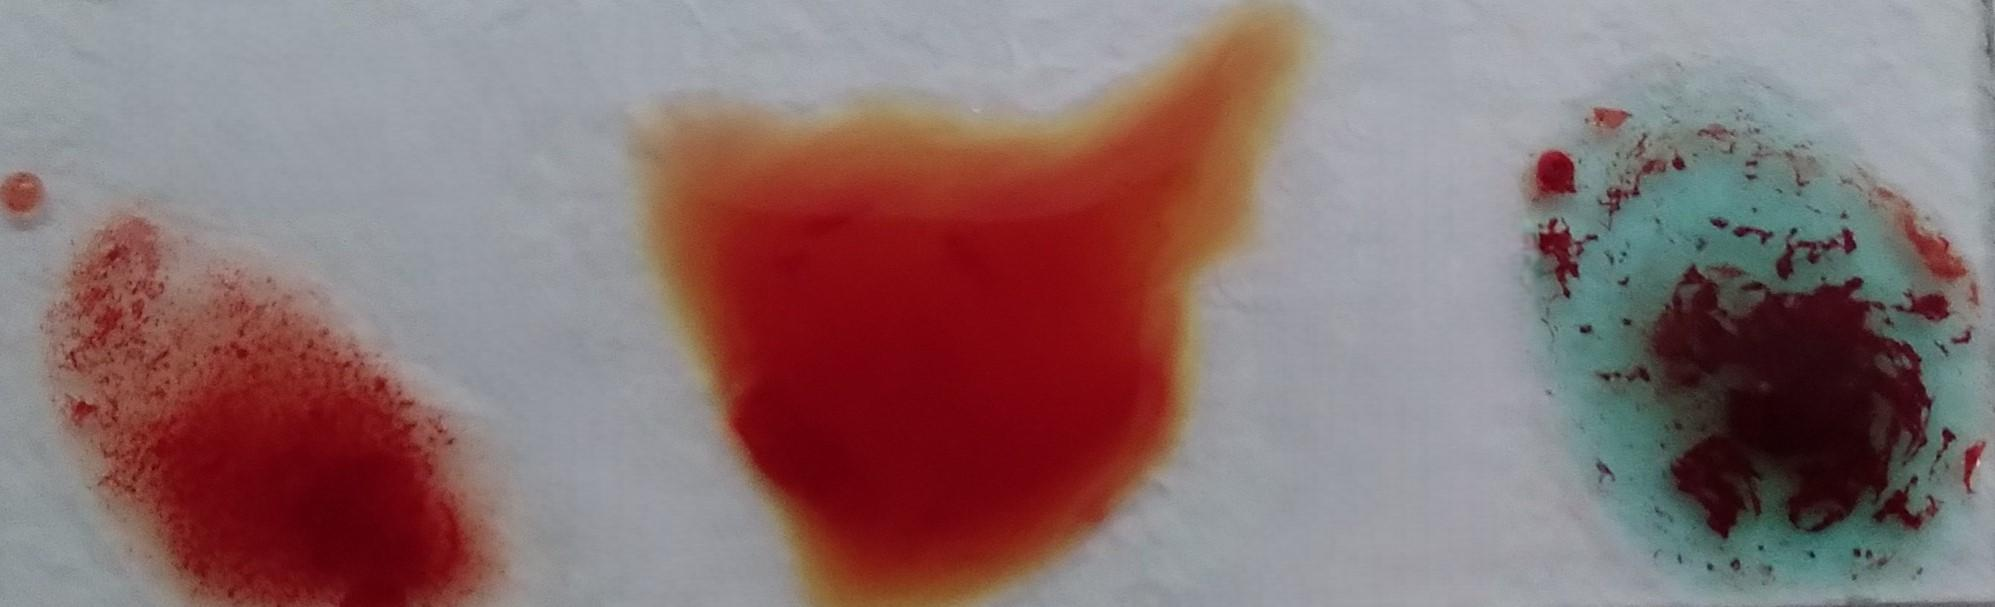A: (1514, 69, 1976, 603)
D: (45, 214, 495, 607)
